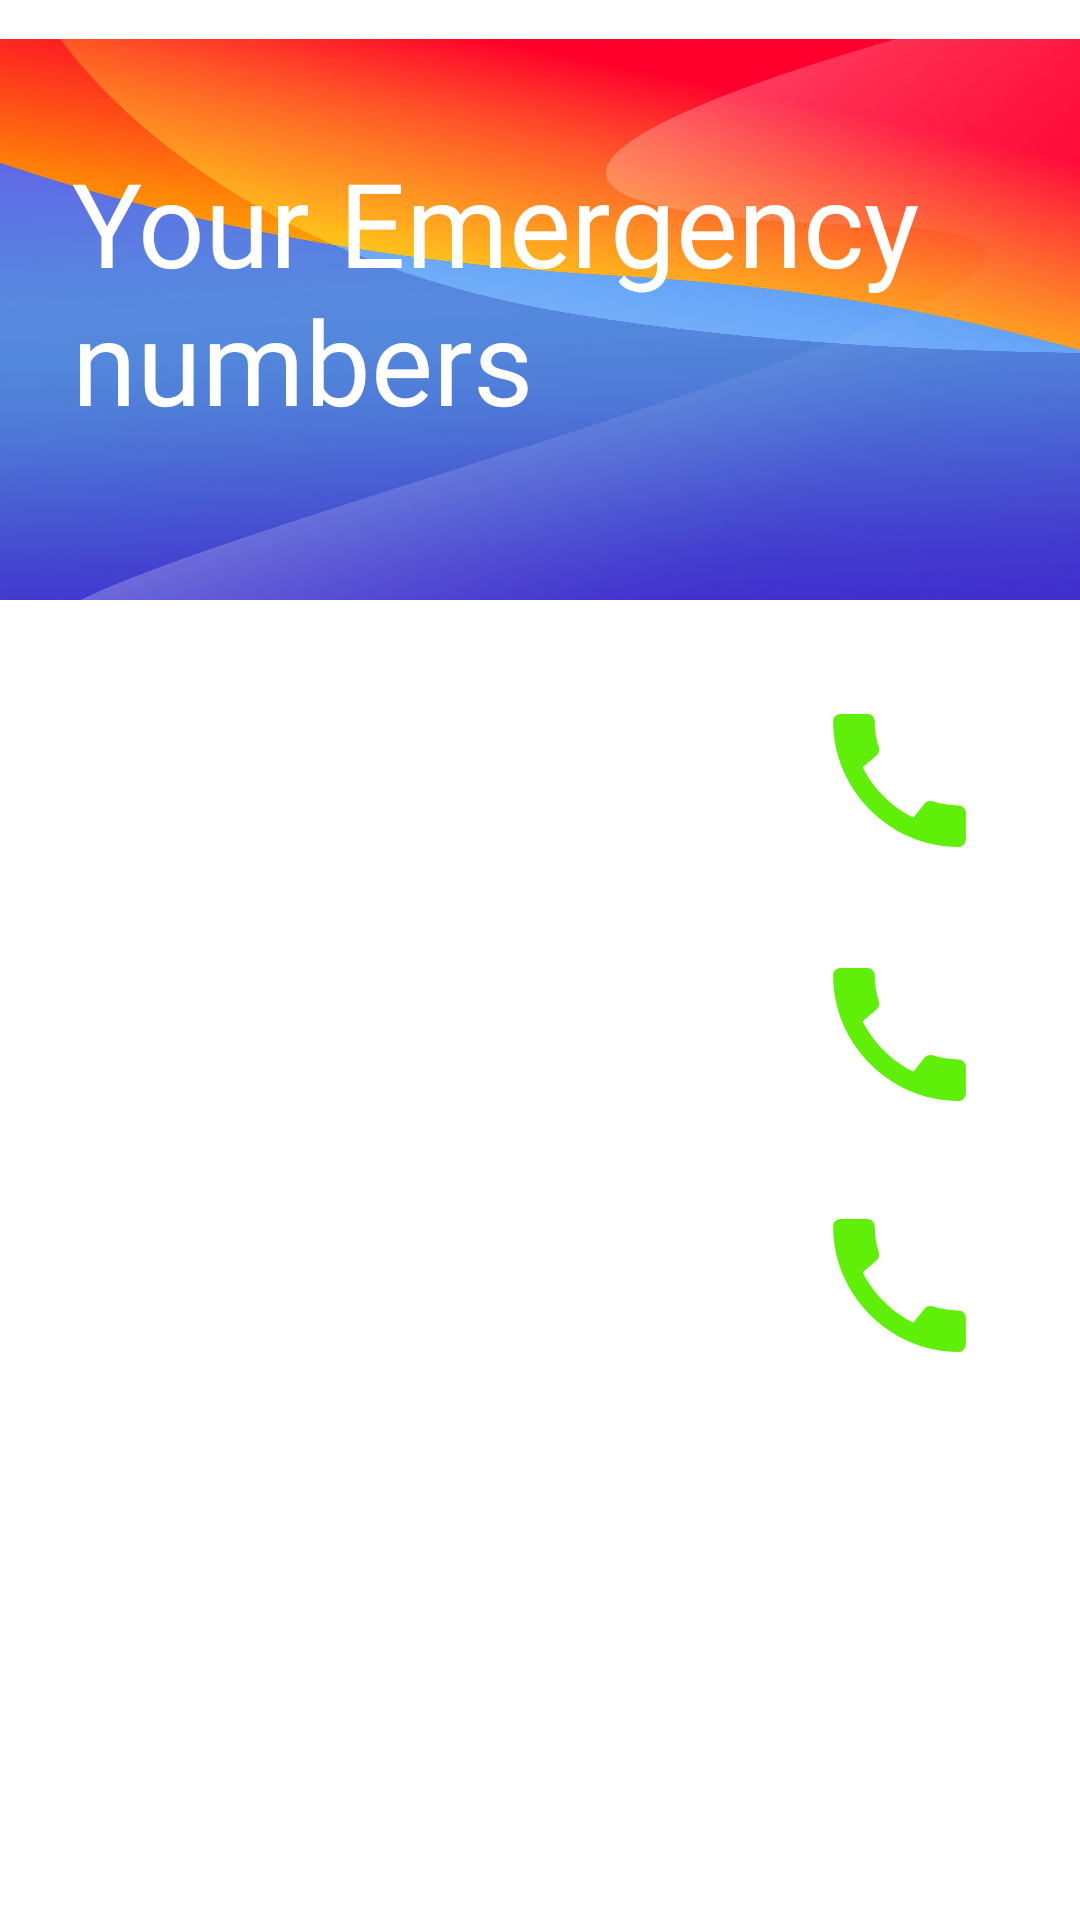

Icon click points for this 1080 x 1920 phone screenshot, format (x,y):
call: (899,780), (899,1034), (899,1285)
